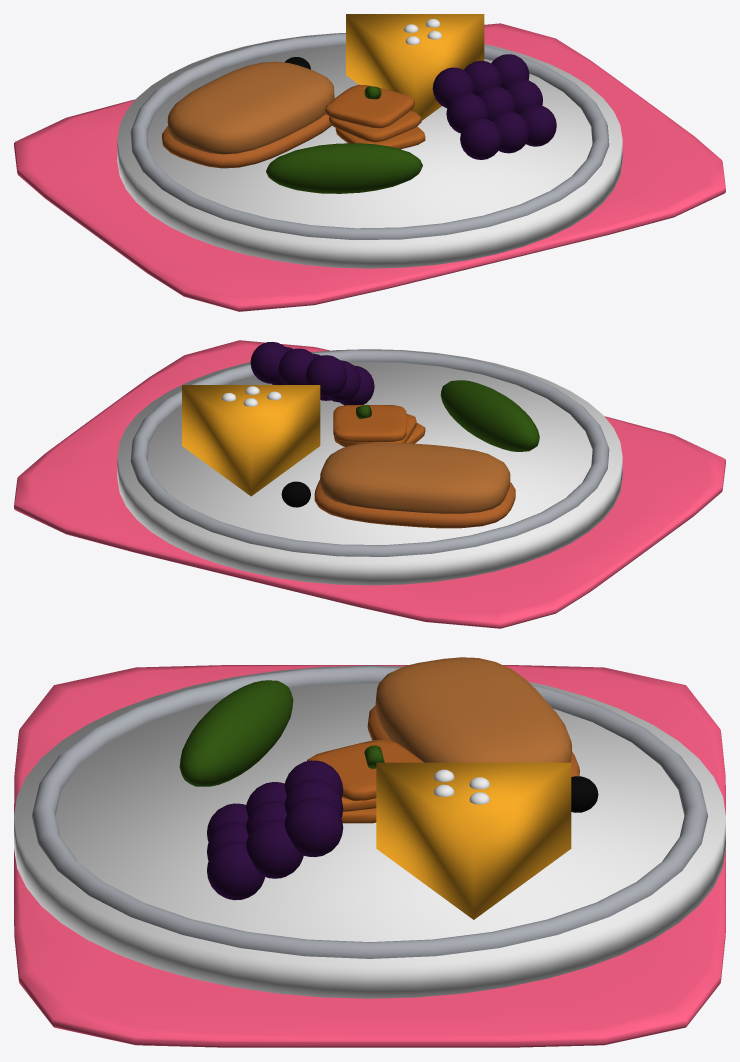
File: GirlDinnerPlate.fbx
3 renders of one model, top to bottom at view 1: azimuth 30°, elevation 25°; view 2: azimuth 150°, elevation 25°; view 3: azimuth 270°, elevation 25°, orthographic. The views are drawn at different scales.
Visible parts, largest first — view 1: GirlDinnerPlate; view 2: GirlDinnerPlate; view 3: GirlDinnerPlate.
Boxes of the visible parts, x1,y1,x2,y2 form: GirlDinnerPlate: [14, 14, 725, 311]; GirlDinnerPlate: [14, 340, 725, 628]; GirlDinnerPlate: [14, 657, 725, 1047].
Bounding box in the file's own units: 3 × 0.54 × 2.4.
1 material, 1 textured.
